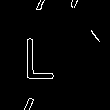L_N: (33, 30, 66, 81)
